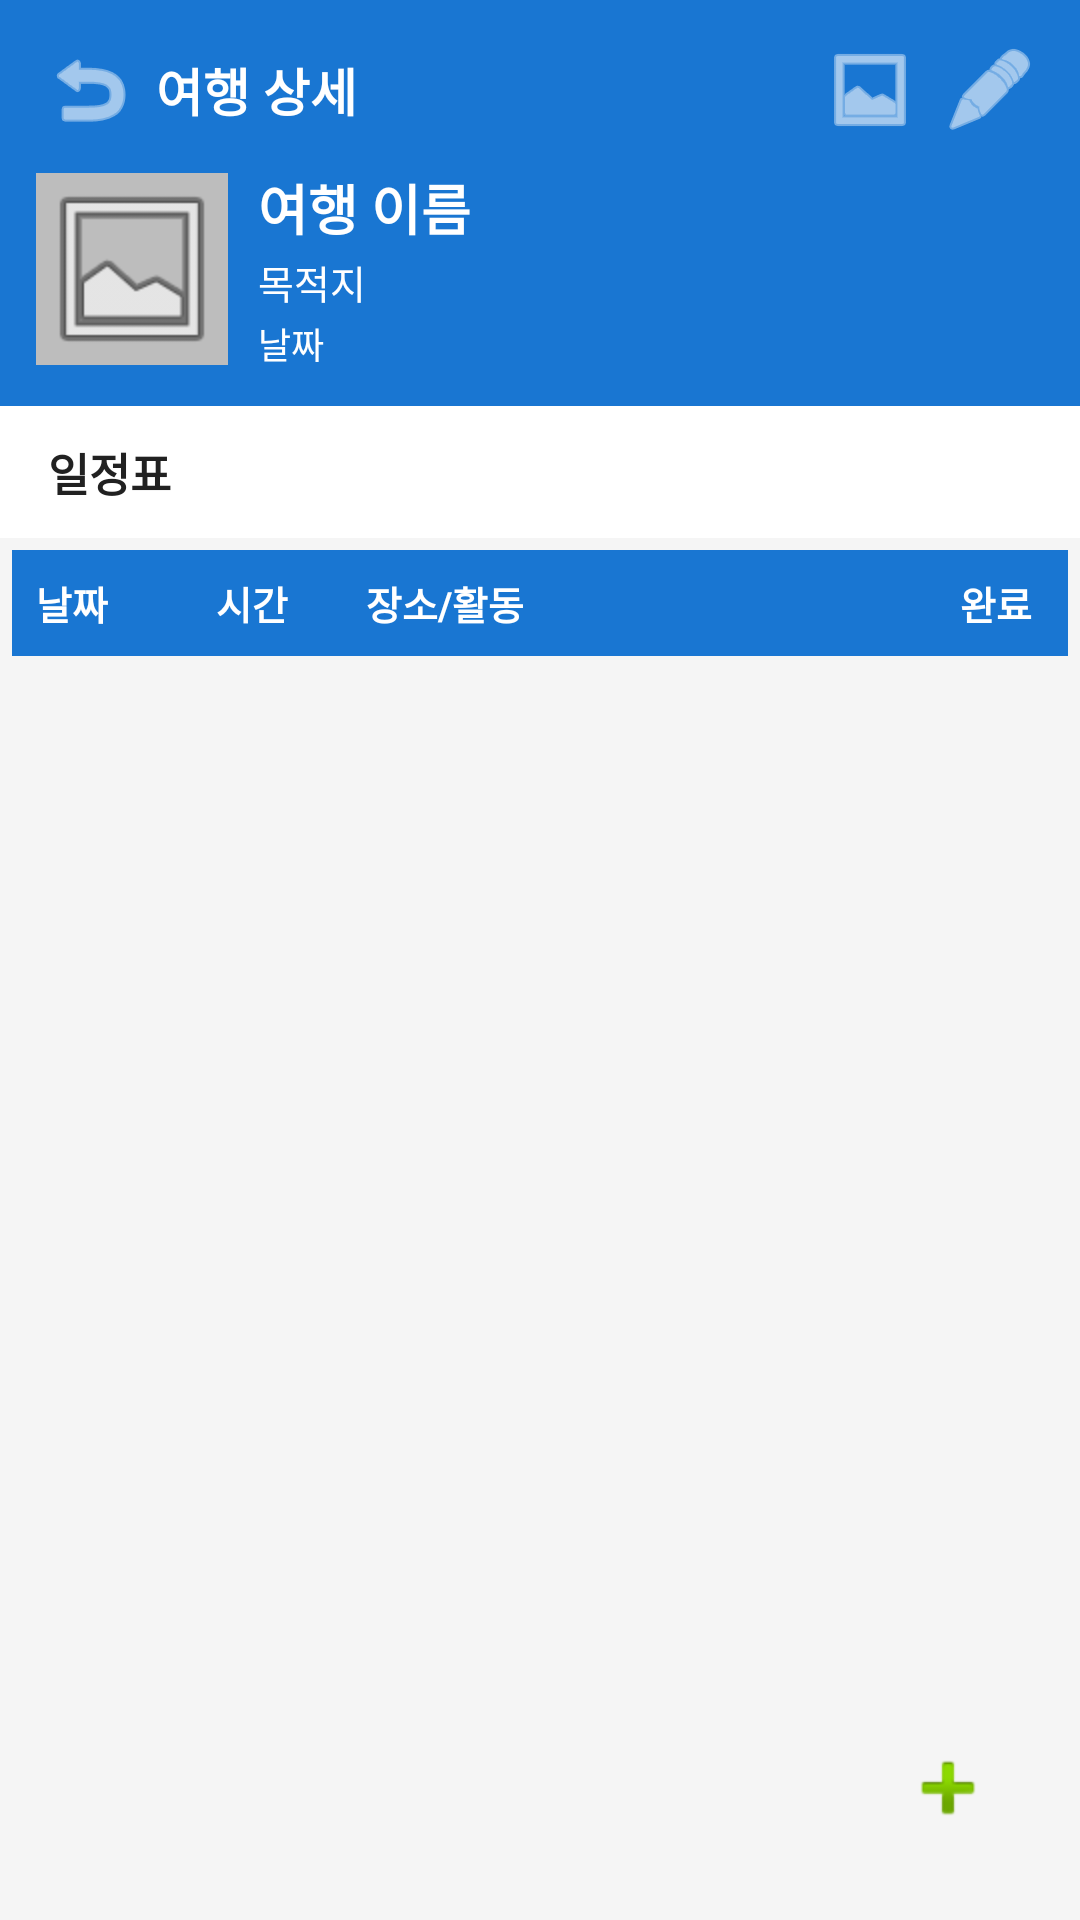

Icons on this 1080*1920 Android screen, each with the point to tap as (x=x, y=y):
뒤로가기: (x=91, y=90)
사진첩: (x=870, y=90)
일정 추가: (x=948, y=1788)
